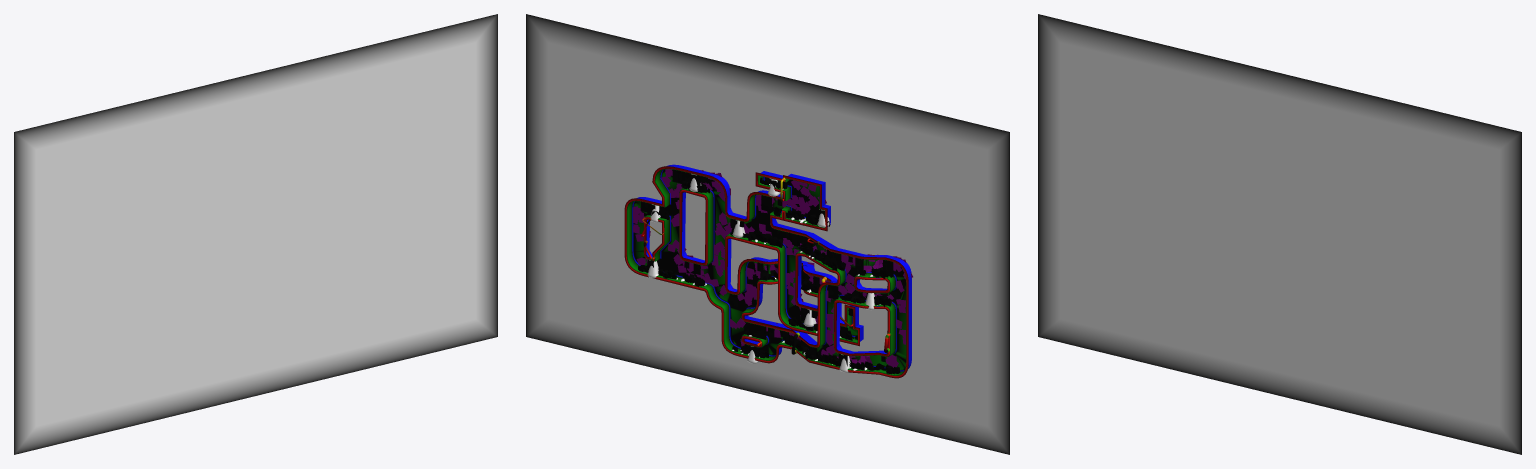
File: lvlmodel_test3.fbx
3 views of the same model, side by side, from view 1: azimuth 30°, elevation 25°; view 2: azimuth 150°, elevation 25°; view 3: azimuth 330°, elevation 25° (orthographic).
Parts seen in each view (by area): view 1: model_geometry; view 2: model_geometry; view 3: model_geometry.
Part boxes in pixels (x1,y1,x2,y2): model_geometry: (14, 14, 497, 454); model_geometry: (526, 14, 1009, 454); model_geometry: (1038, 14, 1521, 454).
Size of what is drawn, in the model's own units: 13126 by 8370 by 1403.
